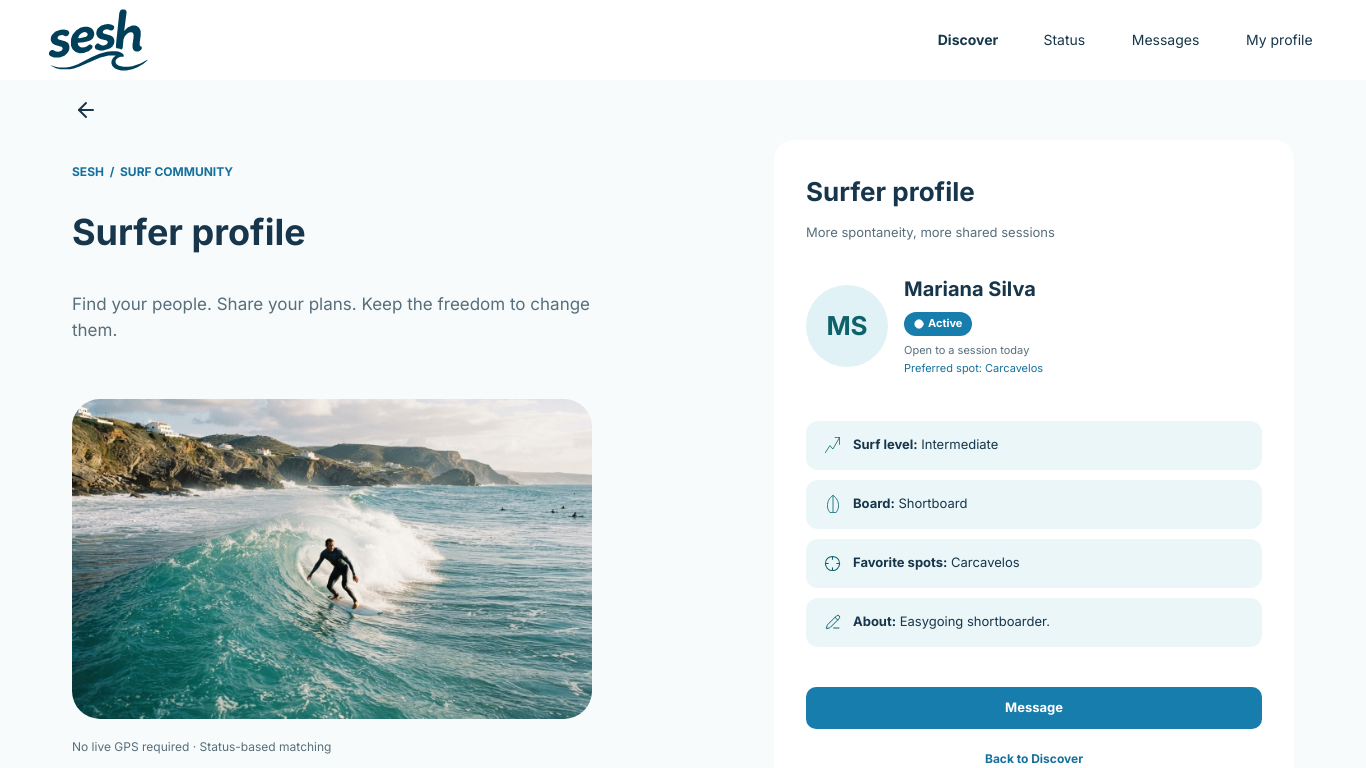
Test: public profile: Message button › a new conversation (201): POST with the surfer’s id, then the chat opens
The width and height of the screenshot is (1366, 768).
Expected: the heading "Mariana Silva" is shown, [904, 276, 1036, 300]
Click the button "Message" at {"x": 1034, "y": 708}, box [806, 686, 1262, 728]
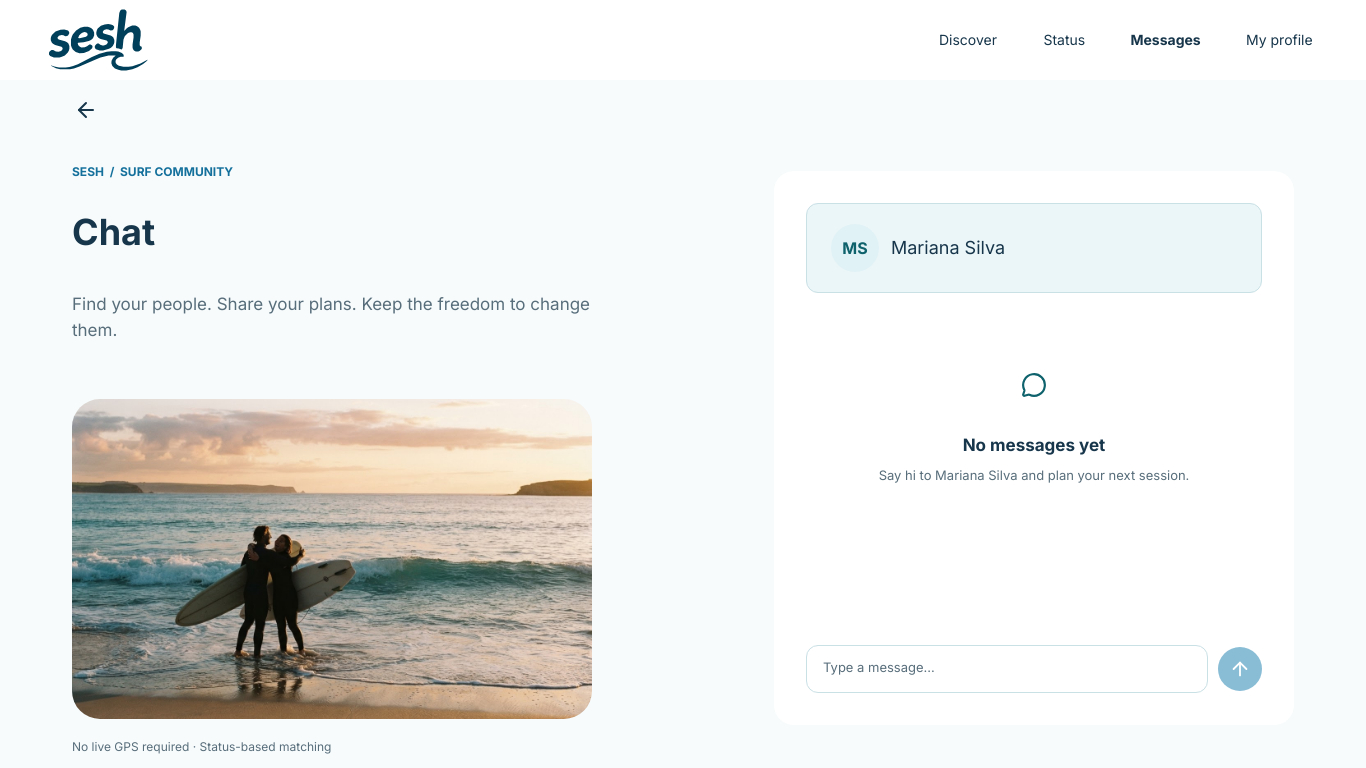
Expected: the heading "Mariana Silva" is shown, [891, 234, 1005, 262]
